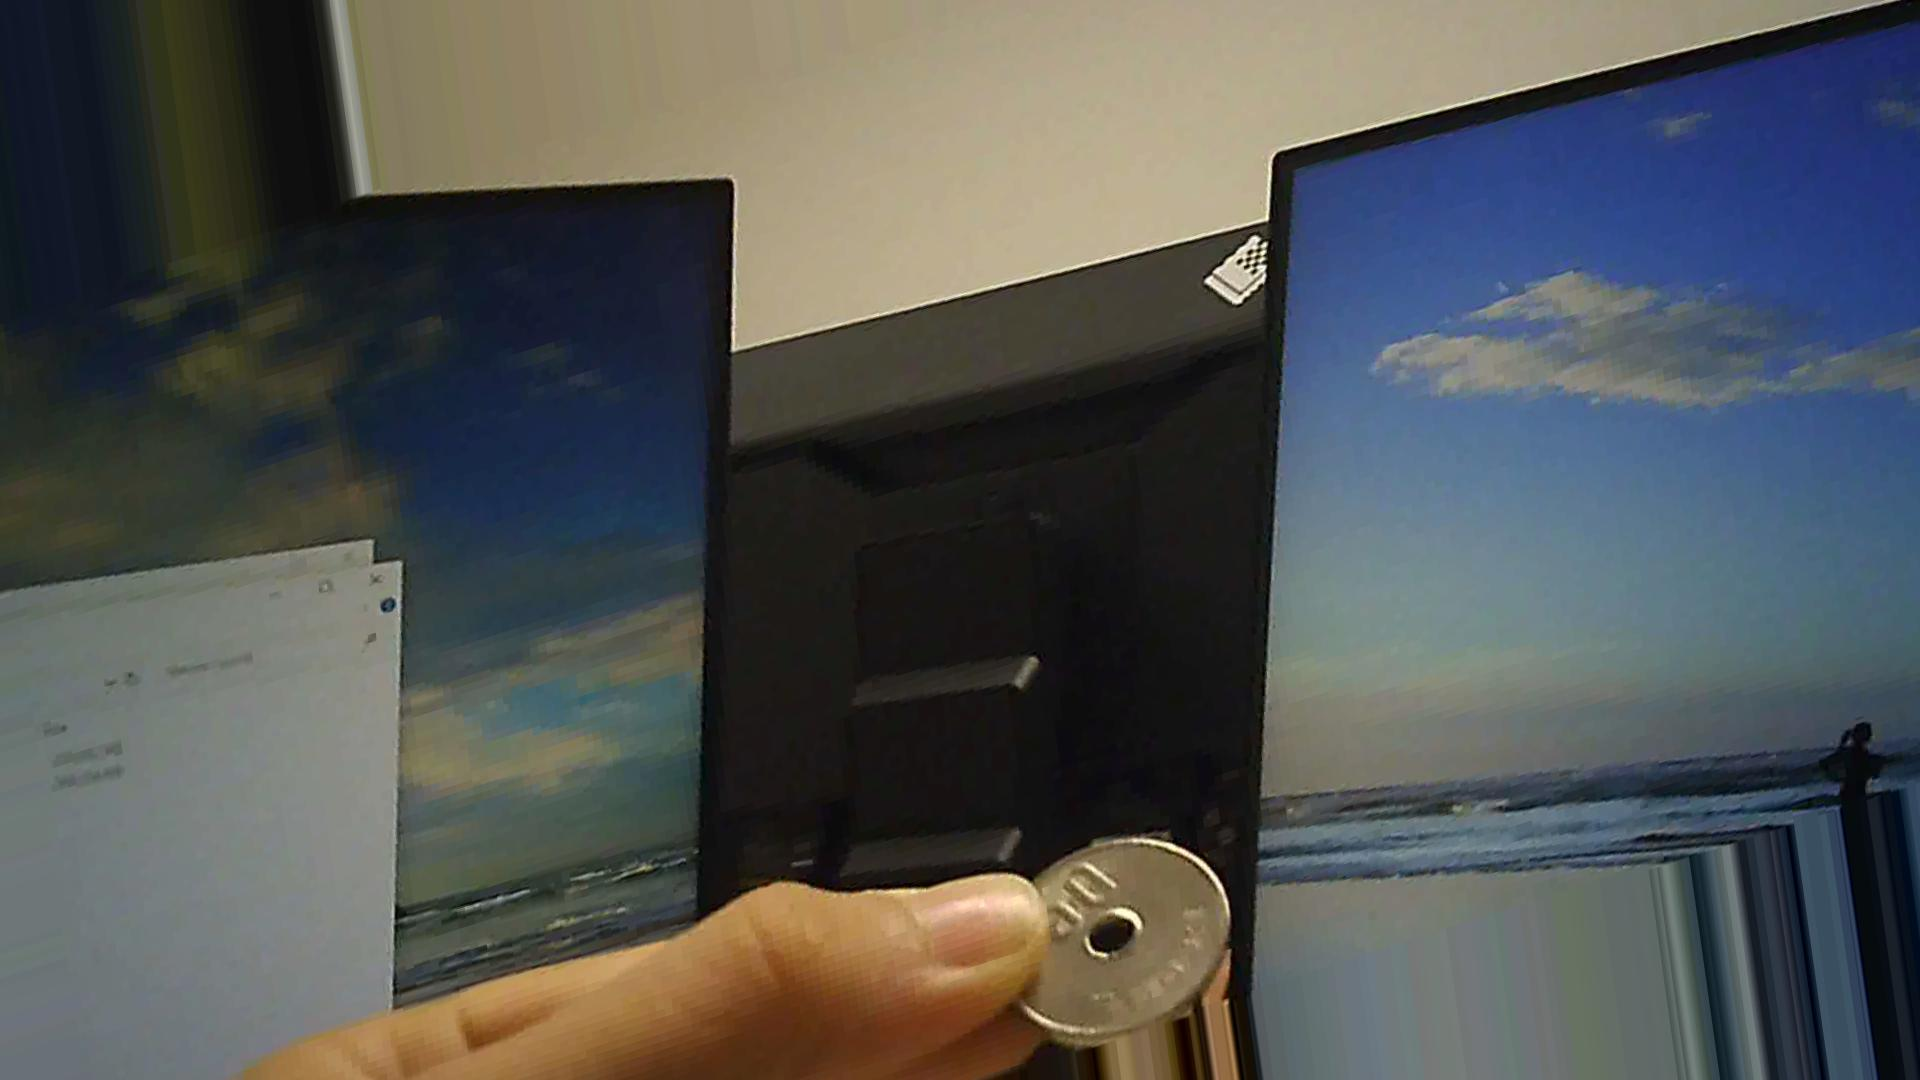50 Yen: (981, 822, 1238, 1048)
